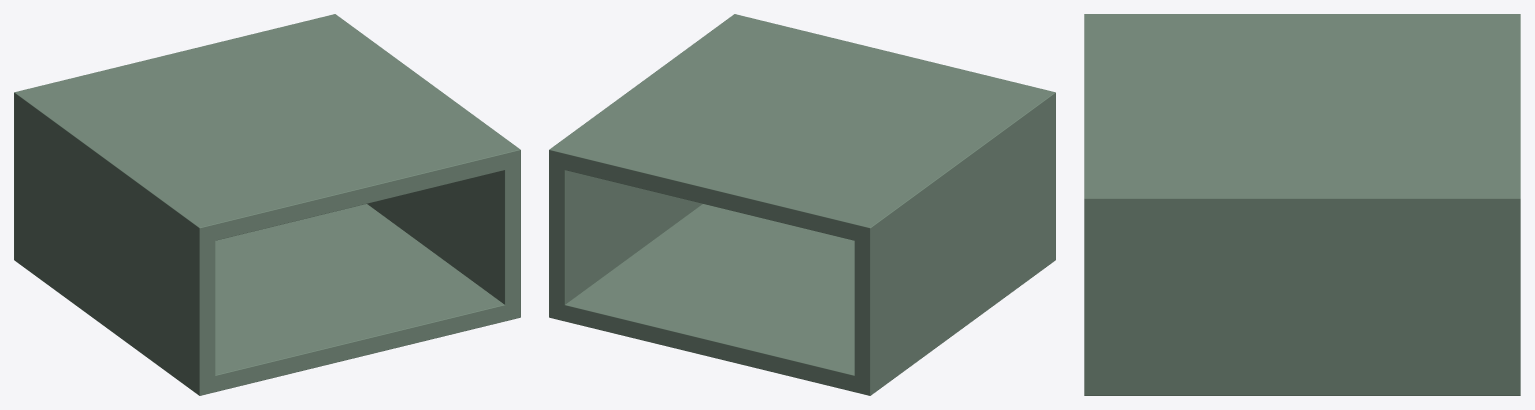
File: MOD_1X05_A_O_VA.glb
3 views of the same model, side by side, from view 1: azimuth 30°, elevation 25°; view 2: azimuth 150°, elevation 25°; view 3: azimuth 270°, elevation 25° (orthographic). The views are drawn at different scales.
Bounding box in the file's own units: 360 × 180 × 360.
